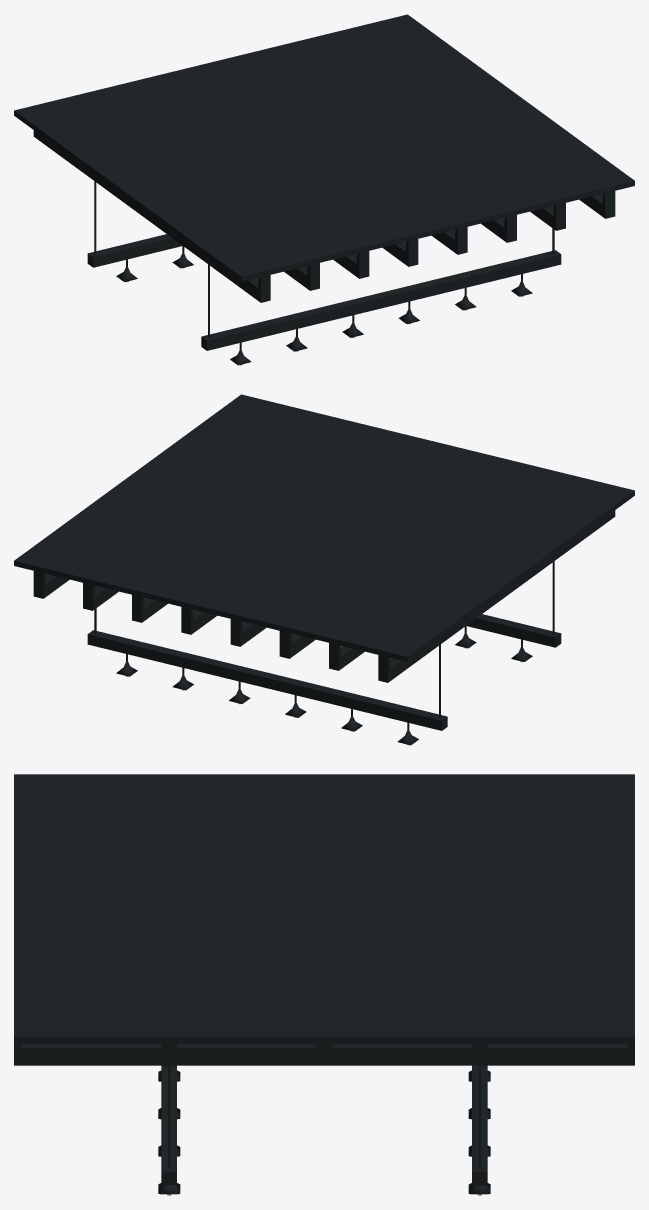
The model's file is Roof_Middle_Lights.glb.
3 renders of one model, top to bottom at view 1: azimuth 30°, elevation 25°; view 2: azimuth 150°, elevation 25°; view 3: azimuth 270°, elevation 25°, orthographic. The views are drawn at different scales.
Parts seen in each view (by area): view 1: Roof_Middle_Lights; view 2: Roof_Middle_Lights; view 3: Roof_Middle_Lights.
Boxes of the visible parts, bbox=[...] form: Roof_Middle_Lights: bbox=[14, 14, 634, 365]; Roof_Middle_Lights: bbox=[14, 394, 634, 745]; Roof_Middle_Lights: bbox=[14, 774, 634, 1195].
Bounding box in the file's own units: 8 × 2.79 × 8.
Materials: 1 (1 with a texture image).
